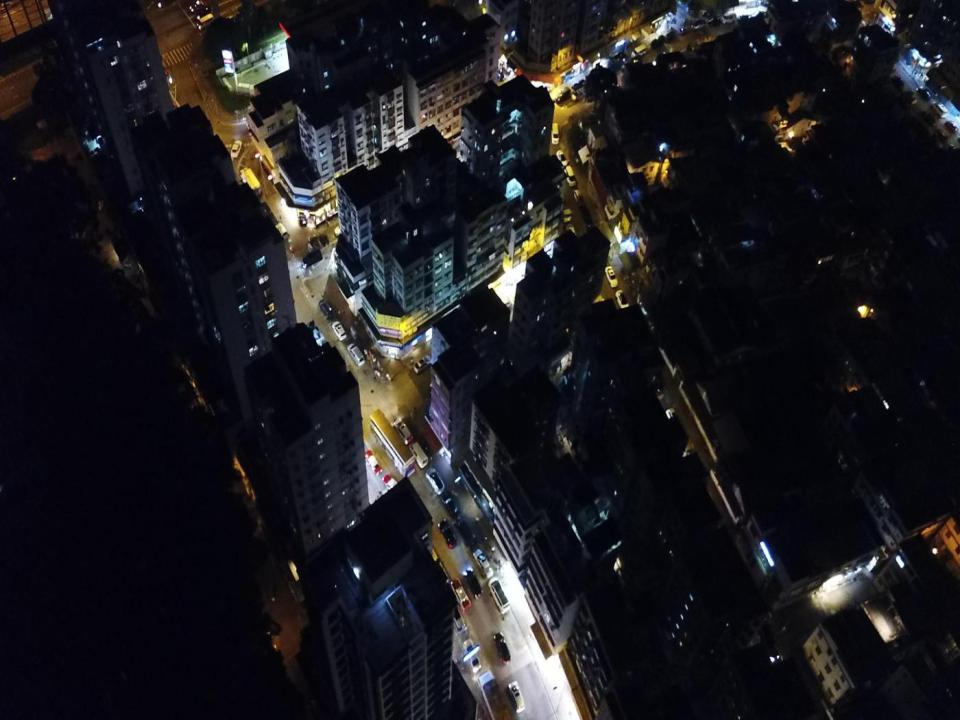bus: (370, 408, 416, 478), (487, 576, 511, 614)
car: (450, 578, 472, 612), (462, 637, 482, 673), (471, 548, 494, 578), (437, 518, 459, 548), (464, 568, 484, 600), (449, 600, 467, 634), (392, 417, 413, 446), (493, 632, 512, 664), (457, 519, 478, 547), (507, 680, 525, 712), (439, 492, 460, 518), (425, 467, 445, 494), (362, 450, 382, 476), (381, 472, 401, 497), (346, 343, 366, 367), (413, 354, 433, 374), (331, 320, 348, 341), (318, 299, 335, 320), (604, 264, 618, 289), (615, 288, 630, 310), (580, 204, 593, 228), (564, 223, 578, 243), (564, 166, 577, 187), (229, 139, 243, 158), (573, 189, 586, 208), (556, 148, 568, 167), (571, 88, 586, 102)
truck: (477, 669, 516, 719), (238, 166, 262, 200)
van: (408, 439, 429, 468), (196, 13, 215, 32), (554, 86, 572, 104), (549, 122, 560, 146)
